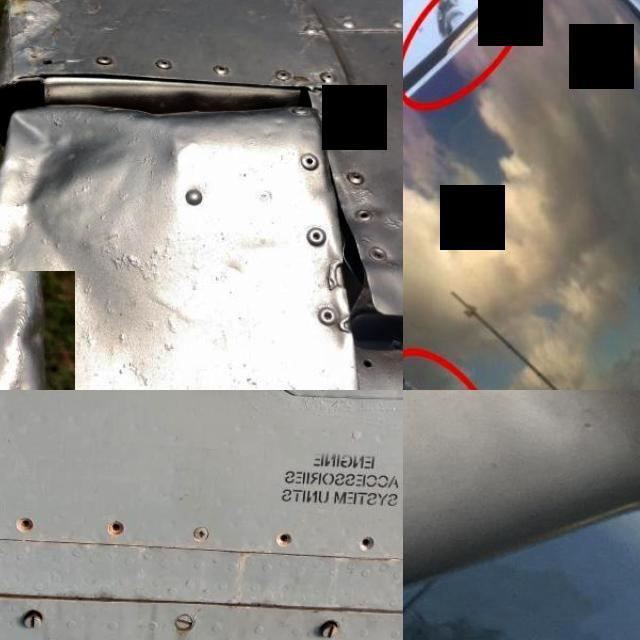Crack: (438, 0, 461, 36)
Dent: (0, 91, 140, 237), (0, 271, 75, 390)
Missing_Fastener: (93, 504, 139, 550), (2, 503, 47, 546), (264, 518, 305, 564), (346, 523, 384, 564)
